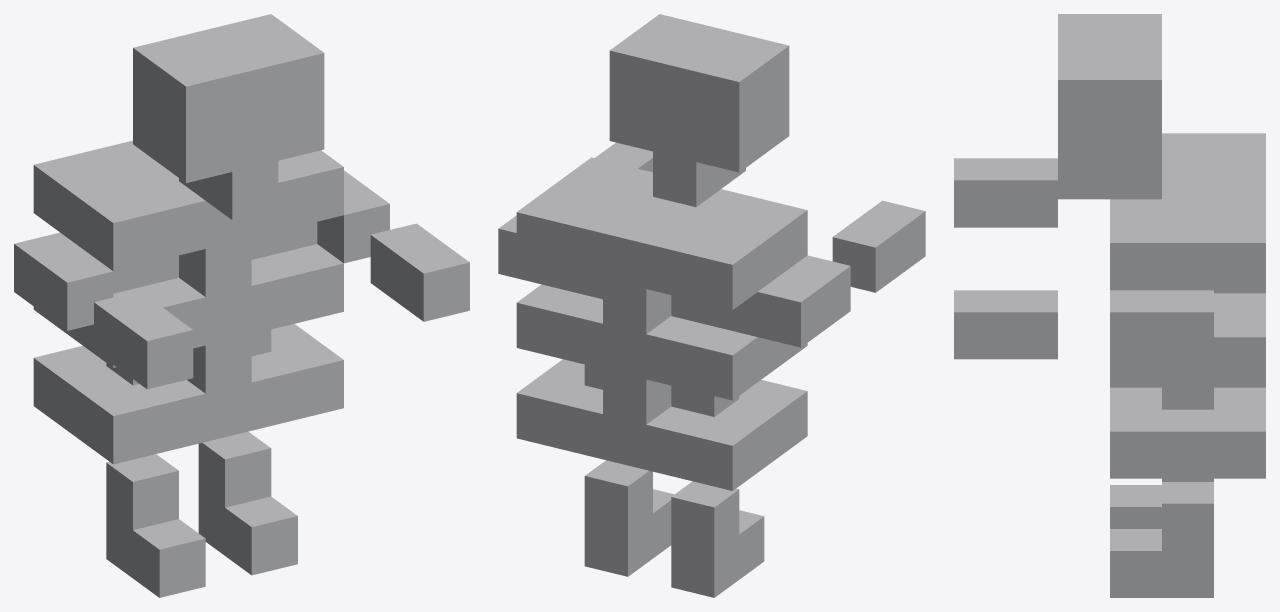
Rendered from skeleton_idle_1.obj.
3 views of the same model, side by side, from view 1: azimuth 30°, elevation 25°; view 2: azimuth 150°, elevation 25°; view 3: azimuth 270°, elevation 25° (orthographic). The views are drawn at different scales.
Size of the model in its own units: 0.7 by 1.1 by 0.6.
1 material, 1 textured.
